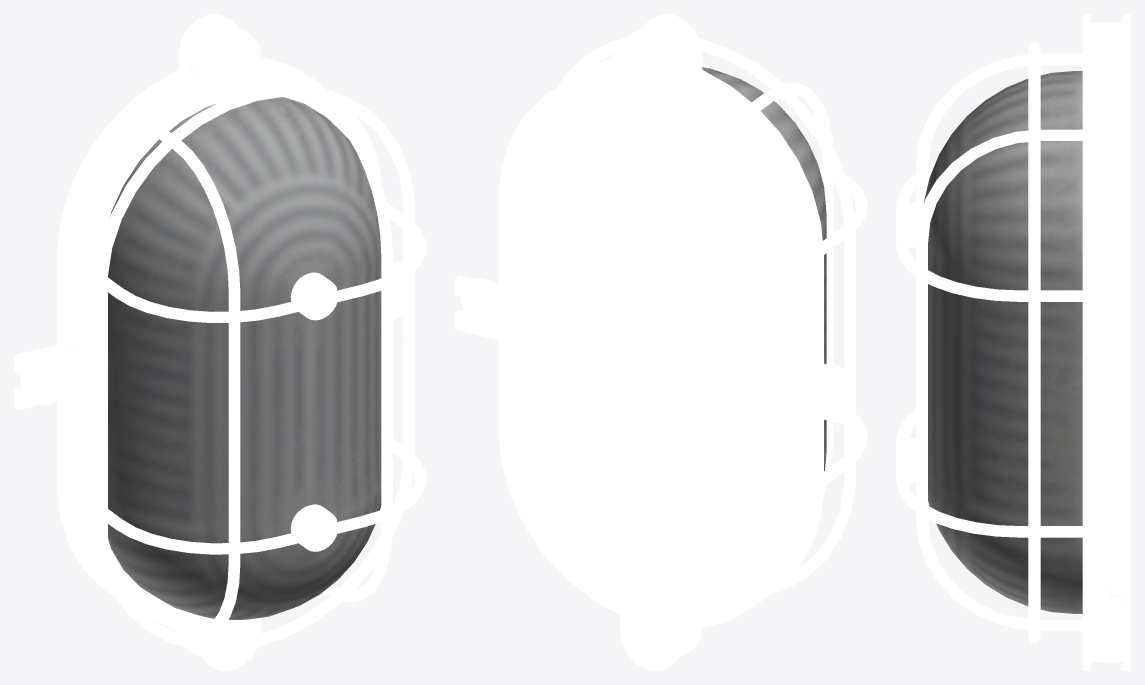
File: industrial_wall_lamp.glb
3 renders of one model, left to right at view 1: azimuth 30°, elevation 25°; view 2: azimuth 150°, elevation 25°; view 3: azimuth 270°, elevation 25°, orthographic.
Parts seen in each view (by area): view 1: industrial_wall_lamp; view 2: industrial_wall_lamp; view 3: industrial_wall_lamp.
Boxes of the visible parts, x1,y1,x2,y2 form: industrial_wall_lamp: (14,14,426,670); industrial_wall_lamp: (455,14,867,670); industrial_wall_lamp: (896,14,1130,670).
Bounding box in the file's own units: 0.2735 × 0.4299 × 0.1404.
2 materials, 2 textured.
